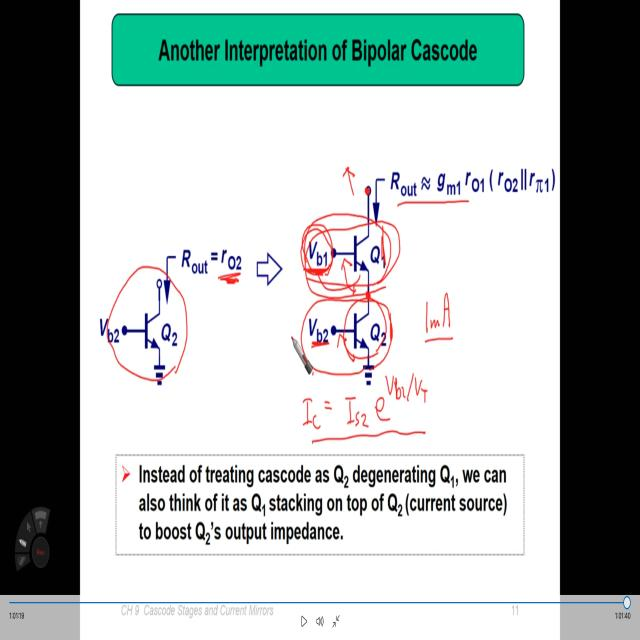panseo: (303, 368, 434, 452), (404, 284, 466, 349)
